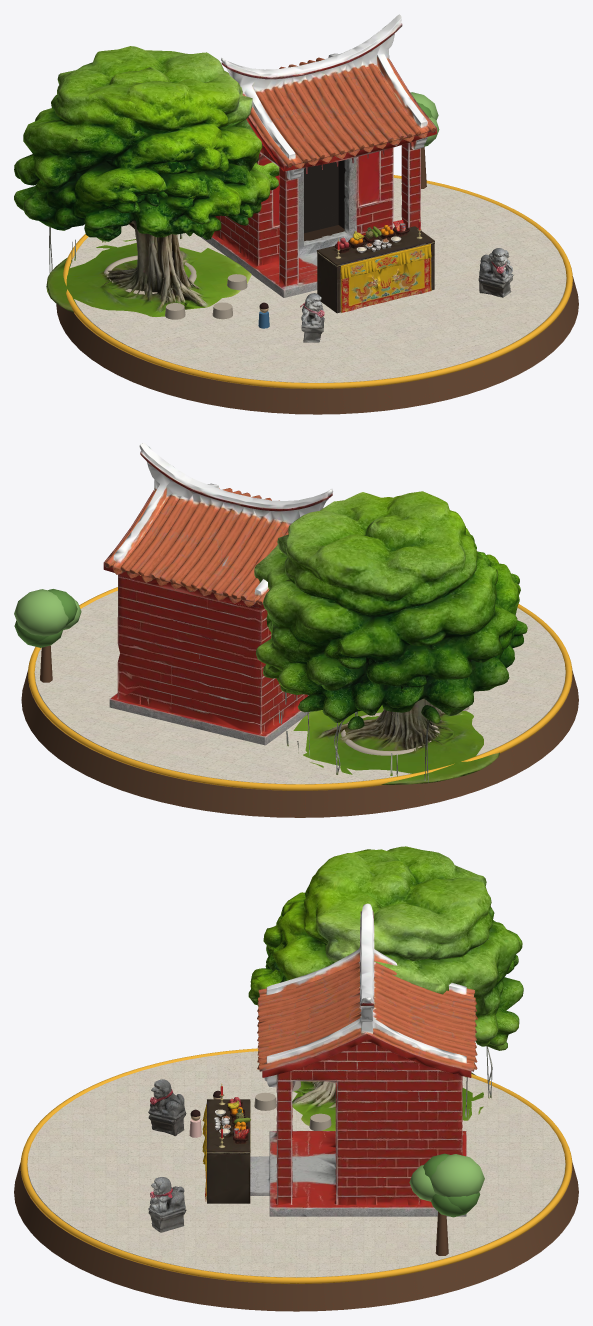
The model's file is landscape.glb.
3 views of the same model, one above another, from view 1: azimuth 30°, elevation 25°; view 2: azimuth 150°, elevation 25°; view 3: azimuth 270°, elevation 25° (orthographic). The views are drawn at different scales.
Parts seen in each view (by area): view 1: tripo_node_cd2d9362-2af5-49cf-8644-0aacb304f2fc, object 2, meshes0, object 1, tripo_node_fd589b15-250b-49f4-9522-820e0049aed6, object 3, meshes0_1, tripo_node_d3a98527-80e8-4681-8827-334841b1c64b; view 2: tripo_node_cd2d9362-2af5-49cf-8644-0aacb304f2fc, meshes0, object 2, object 1, object 3; view 3: object 2, meshes0, tripo_node_cd2d9362-2af5-49cf-8644-0aacb304f2fc, object 1, object 3, tripo_node_fd589b15-250b-49f4-9522-820e0049aed6, tripo_node_d3a98527-80e8-4681-8827-334841b1c64b.
Boxes of the visible parts, <box> form: tripo_node_cd2d9362-2af5-49cf-8644-0aacb304f2fc: <box>14,46,279,316</box>; object 2: <box>70,178,566,382</box>; meshes0: <box>201,14,436,297</box>; object 1: <box>56,92,578,414</box>; tripo_node_fd589b15-250b-49f4-9522-820e0049aed6: <box>316,219,434,313</box>; object 3: <box>63,175,572,388</box>; meshes0_1: <box>304,160,345,241</box>; tripo_node_d3a98527-80e8-4681-8827-334841b1c64b: <box>300,248,513,342</box>; tripo_node_cd2d9362-2af5-49cf-8644-0aacb304f2fc: <box>254,491,527,784</box>; meshes0: <box>103,443,332,745</box>; object 2: <box>34,590,565,784</box>; object 1: <box>14,589,578,817</box>; object 3: <box>28,587,572,790</box>; object 2: <box>27,1051,565,1277</box>; meshes0: <box>250,903,477,1216</box>; tripo_node_cd2d9362-2af5-49cf-8644-0aacb304f2fc: <box>248,846,523,1130</box>; object 1: <box>14,1081,578,1311</box>; object 3: <box>20,1048,572,1283</box>; tripo_node_fd589b15-250b-49f4-9522-820e0049aed6: <box>202,1083,250,1203</box>; tripo_node_d3a98527-80e8-4681-8827-334841b1c64b: <box>148,1079,186,1232</box>.
Size of the model in its own units: 0.522 by 0.2527 by 0.504.
8 materials, 8 textured.
